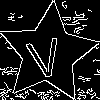V: (23, 28, 65, 80)
